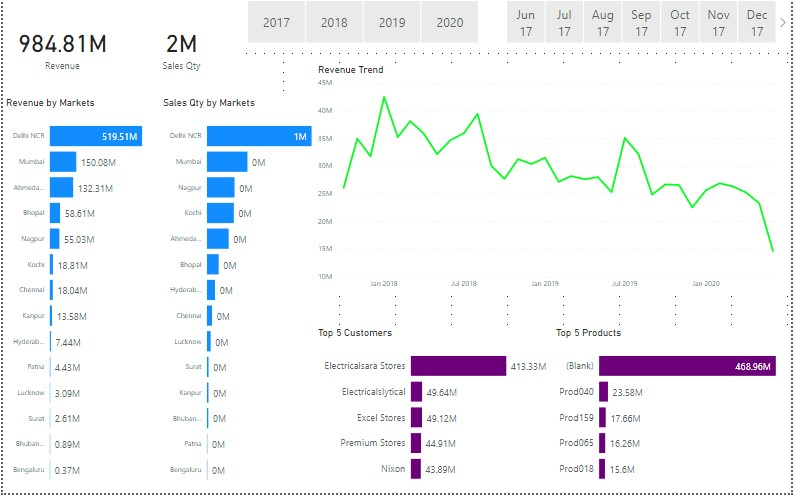

Layout of this report page (visuals, bound fields, positions):
{"tool":"powerbi","page":{"name":"Page 1","canvas":[1350,850],"ordinal":0},"visuals":[{"type":"card","fields":{"Values":["BaseMeasure.Revenue"]},"box":[0,0,204.4,170.7],"z":0},{"type":"card","fields":{"Values":["BaseMeasure.Sales Qty"]},"box":[204.4,0,204.4,170.7],"z":1},{"type":"barChart","title":"Revenue by Markets","fields":{"Y":["BaseMeasure.Revenue"],"Category":["sales markets.markets_name"]},"box":[0,170.7,268.4,679.1],"z":2},{"type":"barChart","title":"Sales Qty by Markets","fields":{"Y":["BaseMeasure.Sales Qty"],"Category":["sales markets.markets_name"]},"box":[268.4,170.7,266.7,679.1],"z":3},{"type":"slicer","fields":{"Values":["sales date.year"]},"box":[394.7,0,444.4,85.3],"z":4},{"type":"slicer","fields":{"Values":["sales date.cy_date"]},"box":[839.1,0,510.2,85.3],"z":5},{"type":"barChart","title":"Top 5 Customers","fields":{"Y":["BaseMeasure.Revenue"],"Category":["sales customers.custmer_name"]},"box":[535.1,565.3,407.1,284.4],"z":6},{"type":"barChart","title":"Top 5 Products","fields":{"Y":["BaseMeasure.Revenue"],"Category":["sales products.product_code"]},"box":[942.2,565.3,407.1,284.4],"z":7},{"type":"lineChart","title":"Revenue Trend","fields":{"Y":["BaseMeasure.Revenue"],"Category":["sales date.cy_date"]},"box":[535.1,115.6,814.2,394.7],"z":8}]}

Visuals, with their boxes in screenshot pixels (x1, y1, x2, y2), scaled from the page's 1350x850 canvas onto the 794x497 screenshot:
card - BaseMeasure.Revenue: [0, 0, 120, 100]
card - BaseMeasure.Sales Qty: [120, 0, 240, 100]
"Revenue by Markets" barChart: [0, 100, 158, 496]
"Sales Qty by Markets" barChart: [158, 100, 315, 496]
slicer - sales date.year: [232, 0, 494, 50]
slicer - sales date.cy_date: [494, 0, 793, 50]
"Top 5 Customers" barChart: [315, 331, 554, 496]
"Top 5 Products" barChart: [554, 331, 793, 496]
"Revenue Trend" lineChart: [315, 68, 793, 298]
